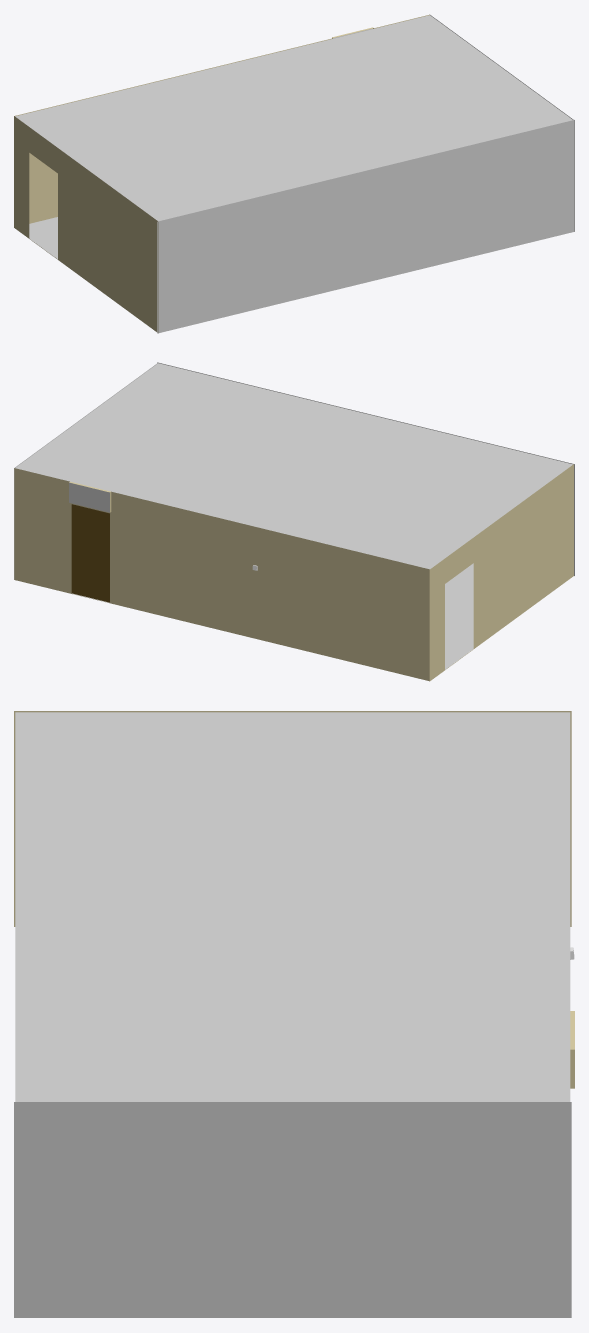
The model's file is Room.dae.
The picture shows the model from 3 angles, top to bottom: view 1: azimuth 30°, elevation 25°; view 2: azimuth 150°, elevation 25°; view 3: azimuth 270°, elevation 25°; orthographic projection. The views are drawn at different scales.
Parts seen in each view (by area): view 1: Plane.001, Plane.006, Plane.003, Plane.002, Plane; view 2: Plane.001, Plane.002, Plane.003, Cube.008, Plane, Plane.006; view 3: Plane.001, Plane.005, Plane.003.
Part boxes in pixels (bbox=[...]): Plane.001: bbox=[15, 15, 572, 221]; Plane.006: bbox=[157, 120, 574, 333]; Plane.003: bbox=[14, 116, 158, 333]; Plane.002: bbox=[15, 14, 429, 223]; Plane: bbox=[29, 217, 57, 258]; Plane.001: bbox=[15, 363, 572, 569]; Plane.002: bbox=[14, 468, 429, 681]; Plane.003: bbox=[429, 464, 573, 681]; Cube.008: bbox=[71, 504, 109, 602]; Plane: bbox=[73, 563, 473, 669]; Plane.006: bbox=[157, 362, 574, 575]; Plane.001: bbox=[15, 712, 570, 1101]; Plane.005: bbox=[14, 1102, 571, 1317]; Plane.003: bbox=[14, 711, 571, 926].
Bounding box in the file's own units: 10.05 × 6.06 × 2.57.
